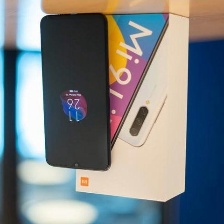book: (69, 9, 195, 204)
phone: (37, 10, 114, 176)
